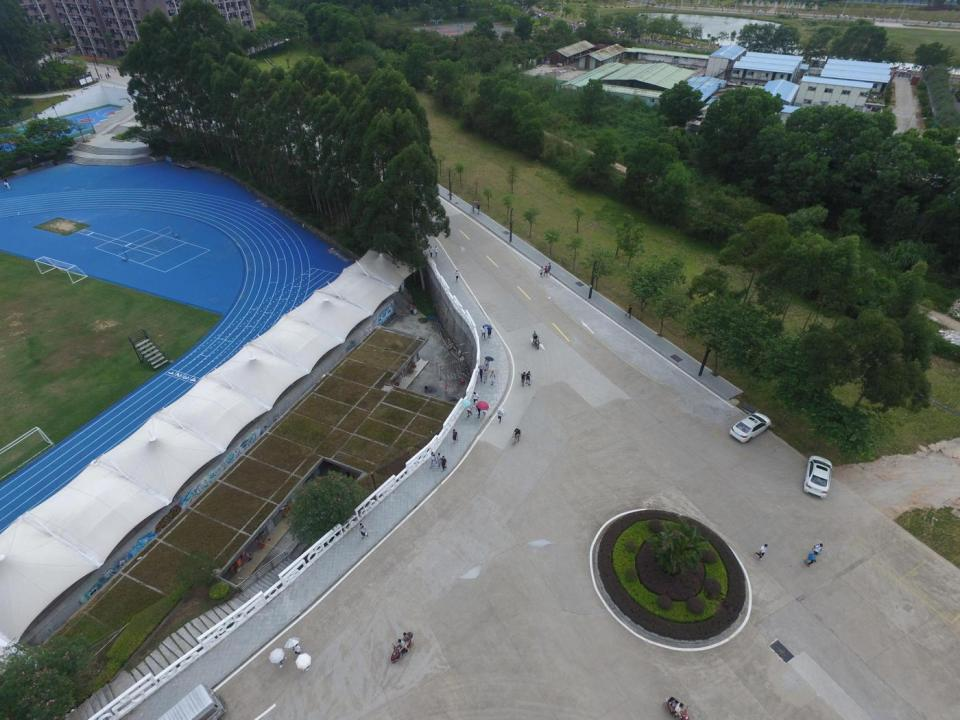car: (802, 456, 835, 498), (729, 413, 772, 443)
van: (156, 683, 226, 720)
